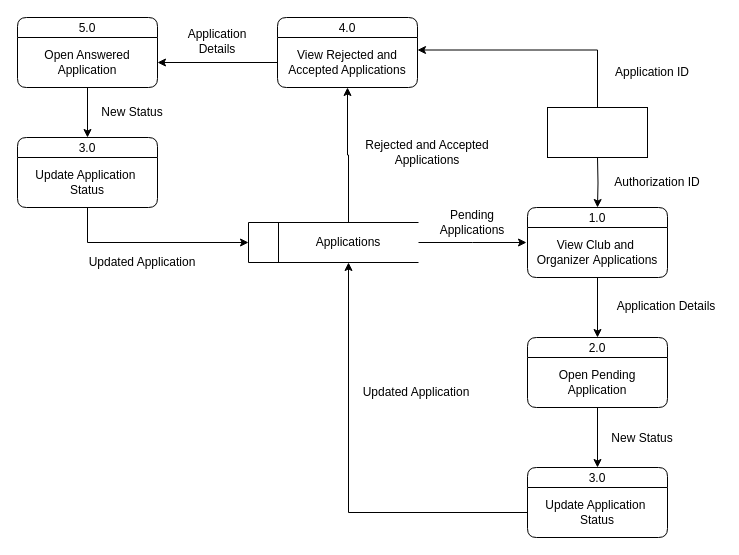
The diagram is 739 pixels wide and 555 high, and some of its shapes have lost their labels. Each missing label, with the box of its shape:
D1: (248, 222, 418, 262)
Sports Development Office: (546, 106, 648, 158)
